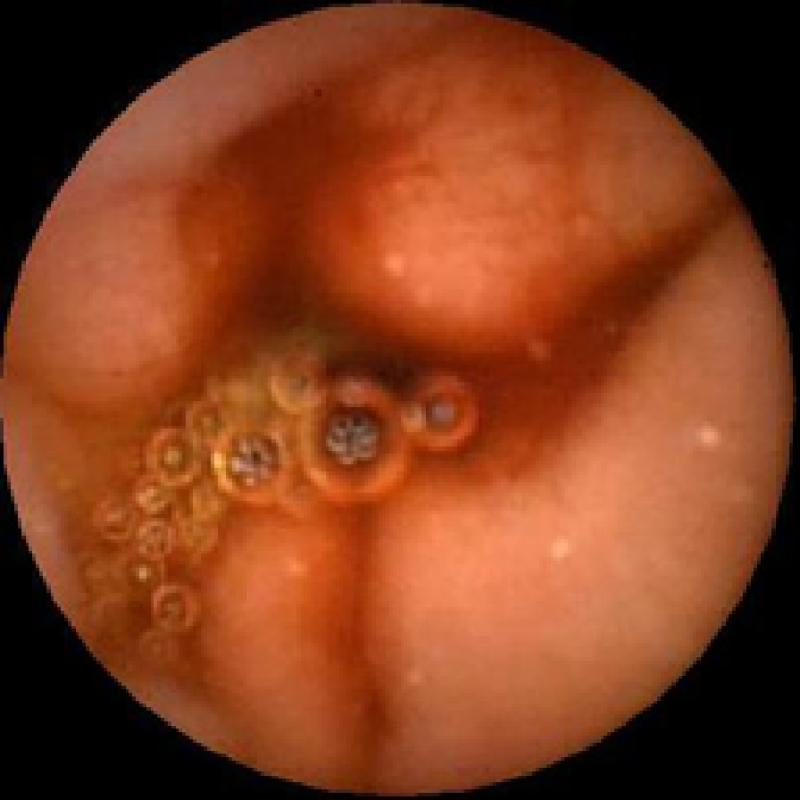bleeding: (195, 46, 619, 743)
